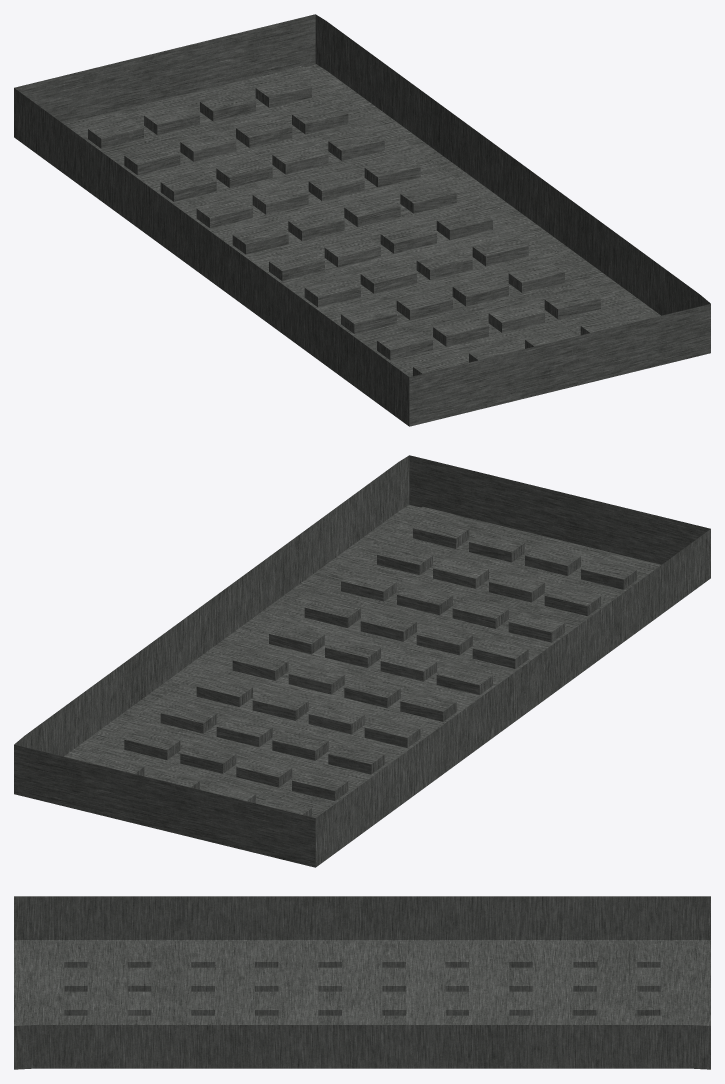
Rendered from SM_Square_Ventilator_2.fbx.
The picture shows the model from 3 angles, top to bottom: view 1: azimuth 30°, elevation 25°; view 2: azimuth 150°, elevation 25°; view 3: azimuth 270°, elevation 25°; orthographic projection. The views are drawn at different scales.
Visible parts, largest first — view 1: SM_Square_Ventilator_2; view 2: SM_Square_Ventilator_2; view 3: SM_Square_Ventilator_2.
Boxes of the visible parts, bbox=[...] form: SM_Square_Ventilator_2: bbox=[14, 14, 710, 426]; SM_Square_Ventilator_2: bbox=[14, 455, 710, 867]; SM_Square_Ventilator_2: bbox=[14, 896, 710, 1069].
Size of the model in its own units: 17.47 by 39.67 by 2.8.
1 material, 1 textured.
